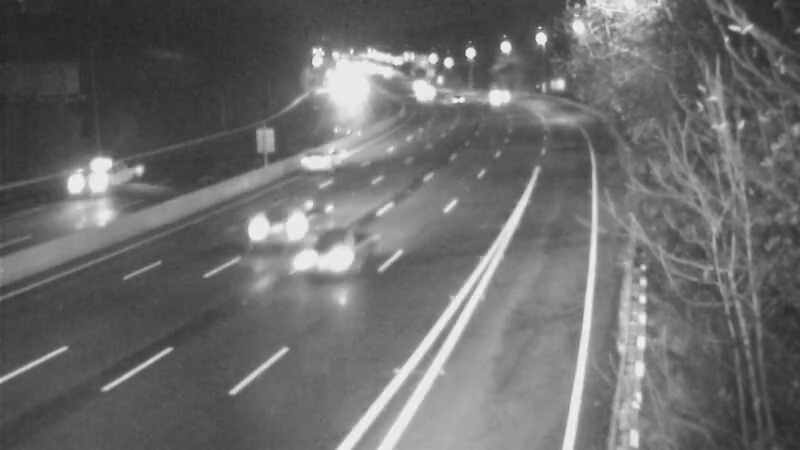vehicle: (279, 120, 359, 200), (238, 180, 318, 260), (293, 207, 373, 287), (57, 140, 137, 220), (467, 69, 517, 119), (404, 68, 454, 118), (428, 76, 478, 126)
